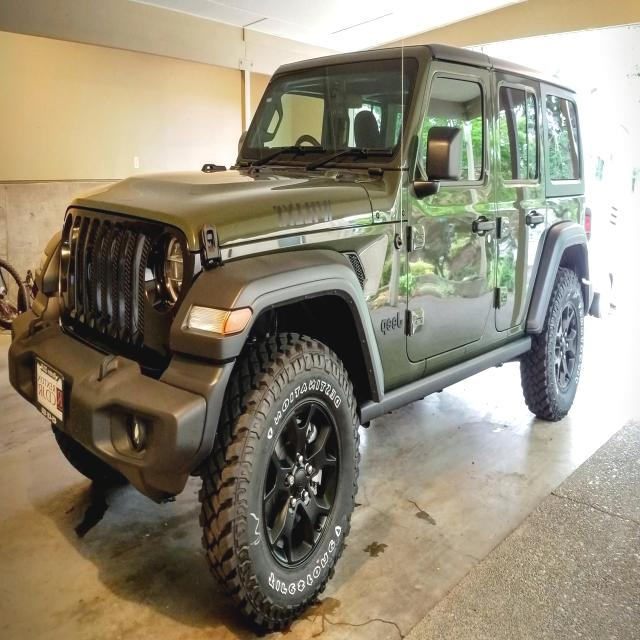green: (9, 43, 595, 627)
